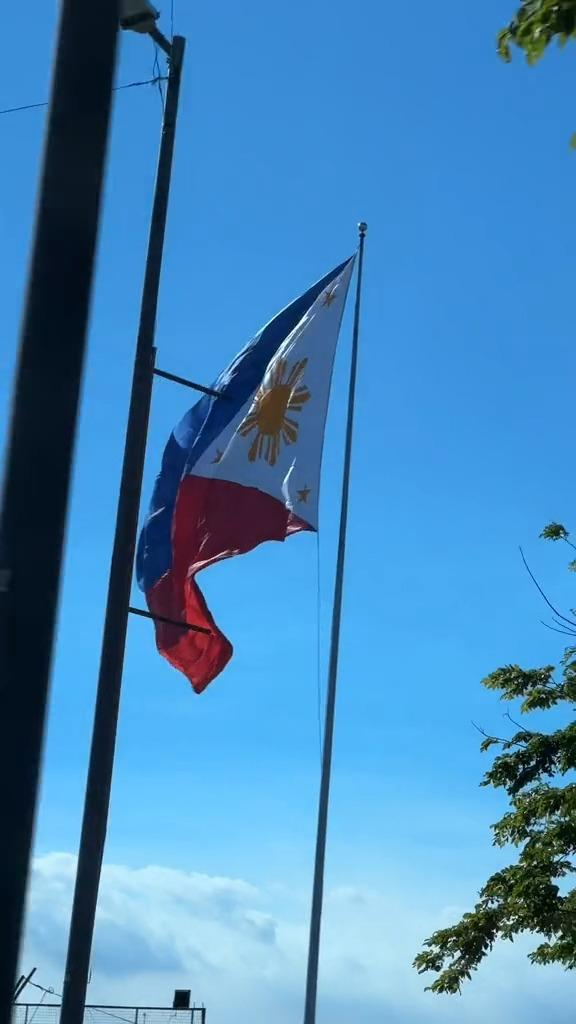Philippines: (131, 253, 365, 695)
